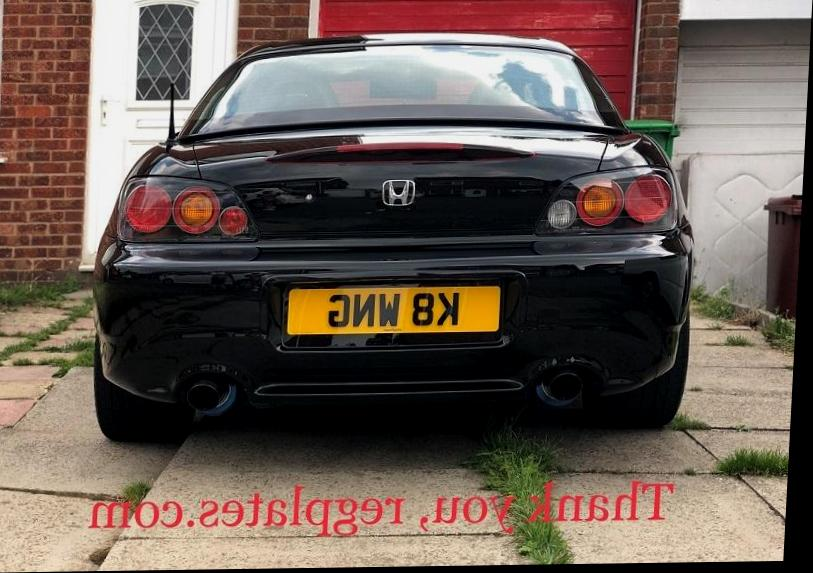License_Plate: (279, 280, 505, 342)
